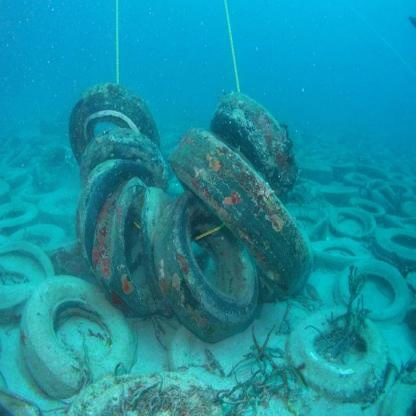net: (214, 1, 249, 90), (105, 3, 137, 85)
tire: (171, 121, 319, 290), (150, 193, 260, 337), (24, 272, 142, 396), (292, 303, 388, 399), (94, 185, 170, 303), (209, 87, 297, 178), (71, 162, 170, 219), (342, 250, 414, 324), (69, 76, 154, 137), (68, 136, 167, 181), (0, 240, 60, 308), (360, 210, 416, 268), (308, 232, 370, 268), (345, 171, 412, 202), (11, 218, 70, 252), (327, 201, 372, 243), (286, 198, 333, 238), (349, 189, 382, 222), (40, 192, 89, 214), (1, 197, 33, 227)
